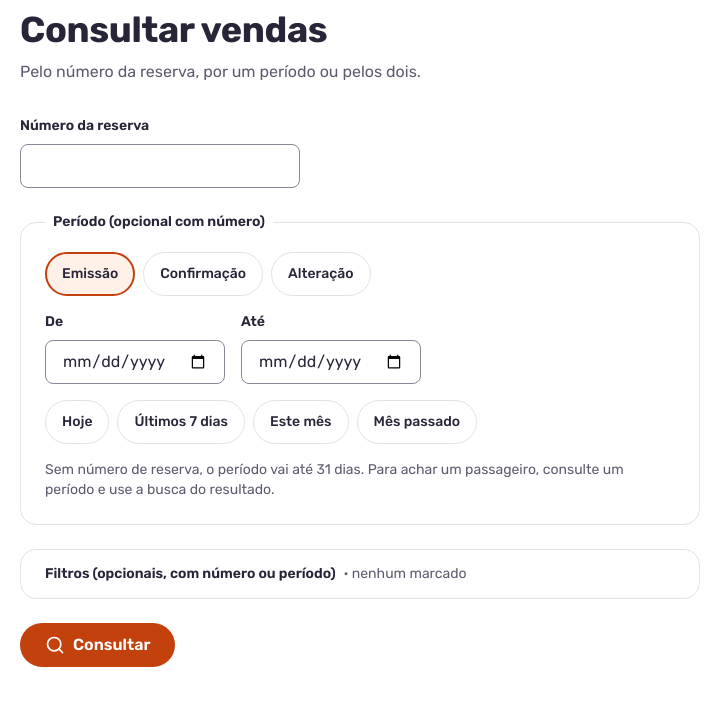
it: Consultar sem nada diz o que falta e põe o foco no número
Click the button "Consultar" at (98, 645), box [20,623,175,667]
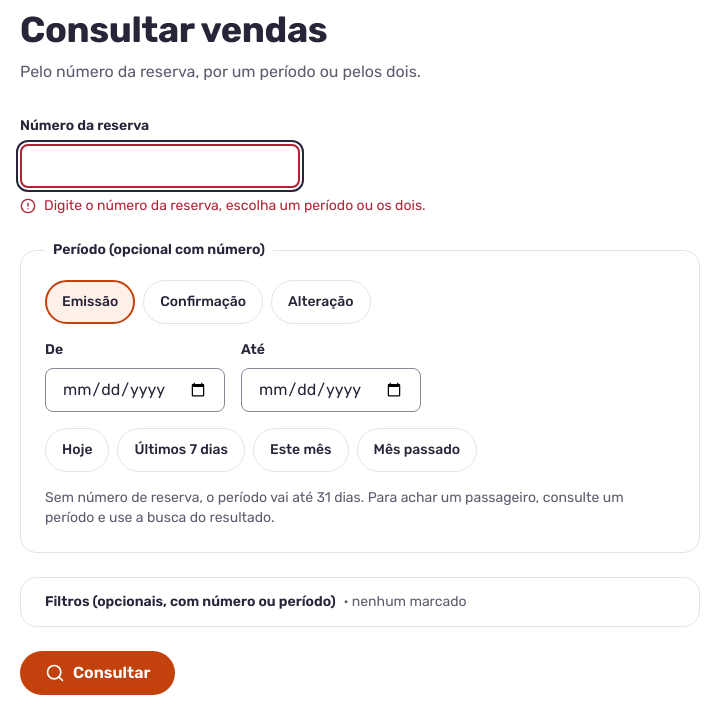
Now the text "Digite o número da reserva, escolha um período ou os dois." is shown, box [20,197,426,214]
